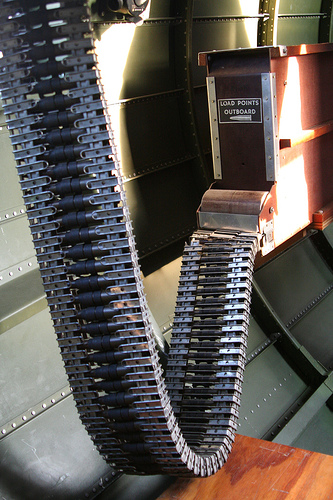rifle: (5, 13, 295, 482)
